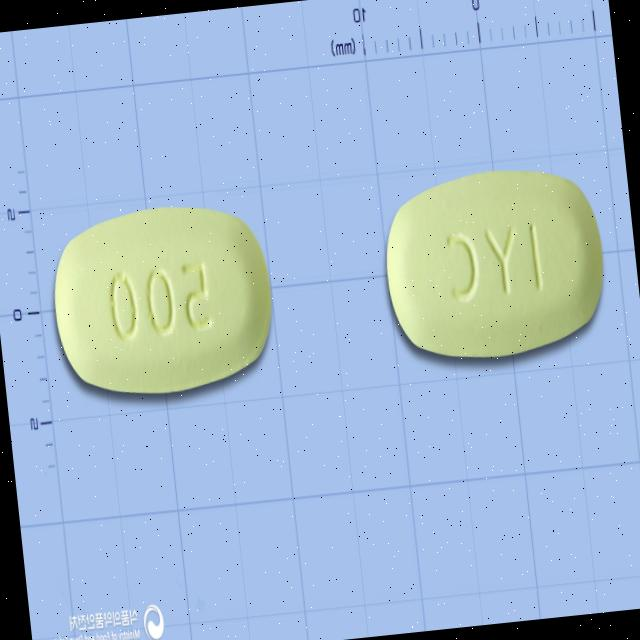Clafacin: (39, 190, 282, 412), (372, 154, 616, 374)
